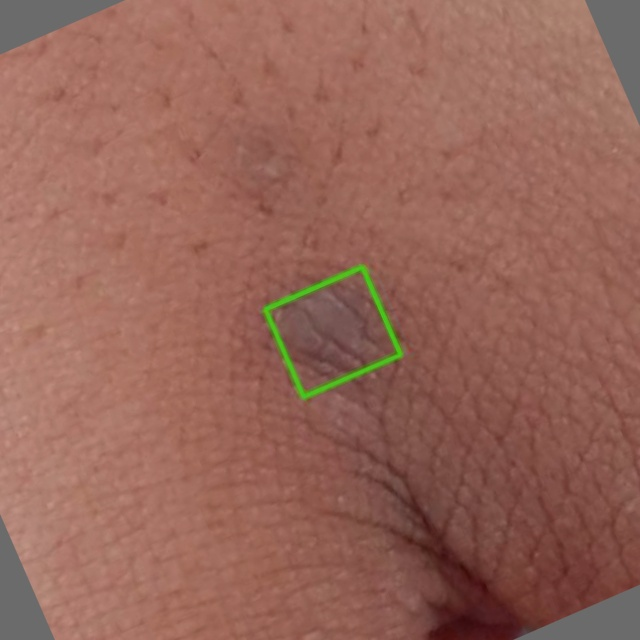Scabies: (265, 267, 400, 396)
